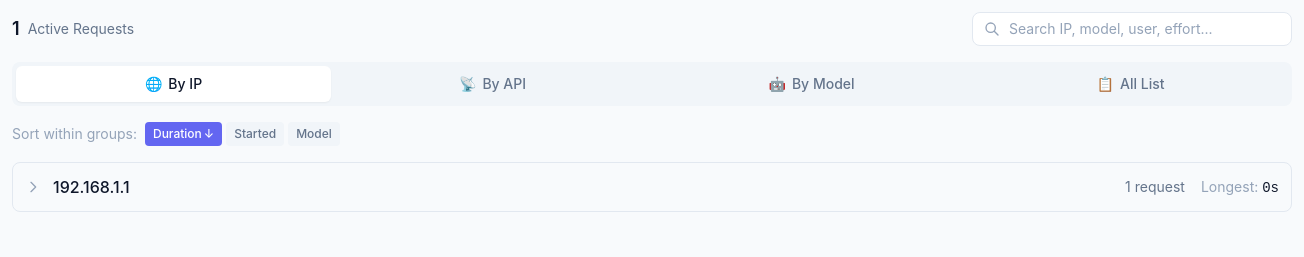
LiveRequestsPanel - Request Rendering › displays SSE badge when request is SSE
The image size is (1304, 257).
Click the text "All List" at [1142, 84], box [1120,74,1164,94]
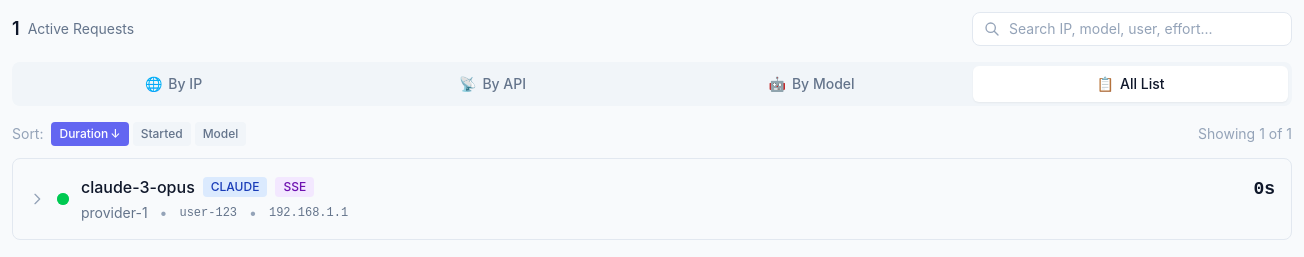
Expected: the text "SSE" is shown, [275,177,314,197]
